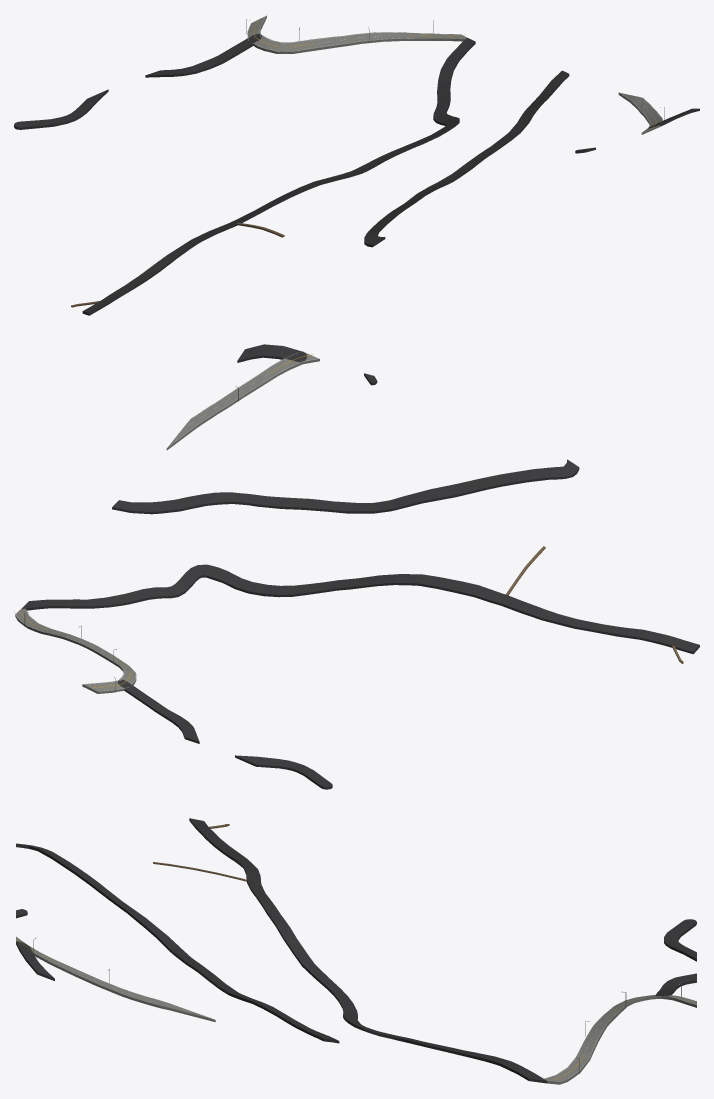
File: 17-109444-59454.a9fe9bab.glb
The picture shows the model from 3 angles, top to bottom: view 1: azimuth 30°, elevation 25°; view 2: azimuth 150°, elevation 25°; view 3: azimuth 270°, elevation 25°; orthographic projection. The views are drawn at different scales.
Bounding box in the file's own units: 295 × 80.19 × 294.
